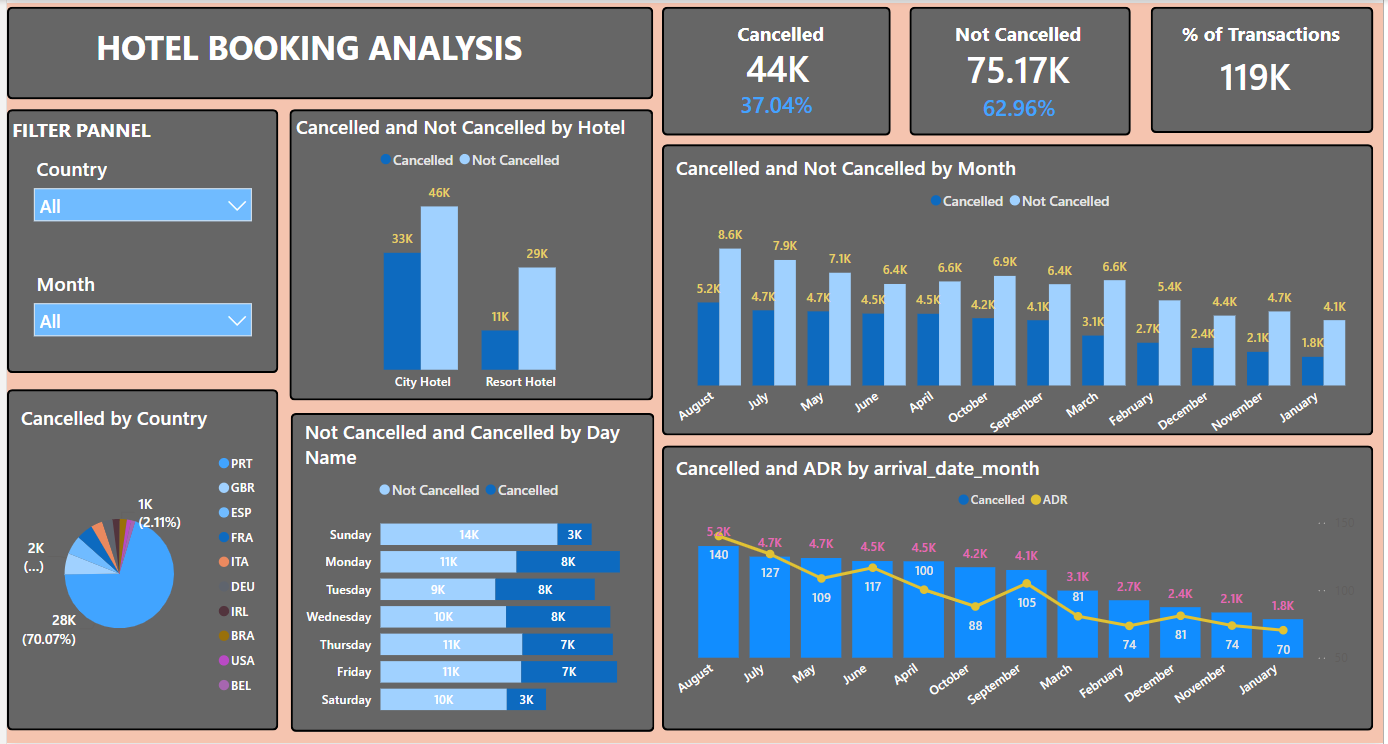

What the dashboard file says about the page in this screenshot:
{"tool":"powerbi","page":{"name":"Page 1","canvas":[1339,720],"ordinal":0},"visuals":[{"type":"shape","box":[0,3.6,628.9,90],"z":0},{"type":"textbox","box":[81.5,15.8,523,68.1],"z":1},{"type":"shape","box":[0,103.4,264,256.7],"z":2},{"type":"shape","box":[637.4,3.6,222.6,125.3],"z":3},{"type":"shape","box":[878.2,3.6,215.3,125.3],"z":4},{"type":"shape","box":[1113,3.6,216.5,122.9],"z":5},{"type":"shape","box":[274.9,103.4,354,283.4],"z":6},{"type":"shape","box":[637.4,137.5,692.1,283.4],"z":7},{"type":"shape","box":[637.4,430.6,692.1,277.3],"z":8},{"type":"shape","box":[276.1,399,354,310.2],"z":9},{"type":"shape","box":[0,375.9,264,332.1],"z":10},{"type":"card","fields":{"Values":["All Measures.Not Cancelled"]},"box":[888,32.8,192.2,63.3],"z":11},{"type":"card","fields":{"Values":["All Measures.Cancelled"]},"box":[647.1,12.2,205.6,103.4],"z":12},{"type":"card","fields":{"Values":["All Measures.% of Transaction"]},"box":[1113,21.9,203.1,99.7],"z":13},{"type":"textbox","box":[645.9,12.2,214.1,52.3],"z":14},{"type":"textbox","box":[888,12.2,192.2,52.3],"z":15},{"type":"textbox","box":[1123.9,12.2,192.2,52.3],"z":16},{"type":"card","fields":{"Values":["All Measures.% of Cancellation"]},"box":[642.3,64.5,214.1,73],"z":17},{"type":"card","fields":{"Values":["All Measures.% of Not Cancellation"]},"box":[878.2,71.8,214.1,63.3],"z":18},{"type":"textbox","box":[0,105.8,183.7,41.4],"z":19},{"type":"slicer","fields":{"Values":["hotel_booking_Dataset.country"]},"box":[15.8,143.5,232.3,91.2],"z":20},{"type":"slicer","fields":{"Values":["hotel_booking_Dataset.arrival_date_day_of_month"]},"box":[15.8,255.4,232.3,91.2],"z":21},{"type":"clusteredColumnChart","title":"Cancelled and Not Cancelled by Hotel","fields":{"Category":["hotel_booking_Dataset.hotel"],"Y":["All Measures.Cancelled","All Measures.Not Cancelled"]},"box":[276.1,107,352.8,279.8],"z":22},{"type":"clusteredColumnChart","title":"Cancelled and Not Cancelled by Month","fields":{"Y":["All Measures.Cancelled","All Measures.Not Cancelled"],"Category":["hotel_booking_Dataset.arrival_date_month"]},"box":[645.9,147.2,683.6,291.9],"z":23},{"type":"donutChart","title":"Cancelled by Country","fields":{"Category":["hotel_booking_Dataset.country"],"Y":["All Measures.Cancelled"]},"box":[8.5,390.5,246.9,305.3],"z":24},{"type":"barChart","fields":{"Category":["hotel_booking_Dataset.Day Name"],"Y":["All Measures.Not Cancelled","All Measures.Cancelled"]},"box":[284.6,403.8,333.3,300.4],"z":25},{"type":"lineStackedColumnComboChart","fields":{"Category":["hotel_booking_Dataset.arrival_date_month"],"Y":["All Measures.Cancelled"],"Y2":["All Measures.ADR"]},"box":[645.9,439.1,670.2,265.2],"z":26}]}

Visuals, with their boxes in screenshot pixels (x1, y1, x2, y2), scaled from the page's 1339x720 canvas onto the 1388x744 screenshot:
shape: [x1=0, y1=4, x2=652, y2=97]
textbox: [x1=84, y1=16, x2=627, y2=87]
shape: [x1=0, y1=107, x2=274, y2=372]
shape: [x1=661, y1=4, x2=891, y2=133]
shape: [x1=910, y1=4, x2=1134, y2=133]
shape: [x1=1154, y1=4, x2=1378, y2=131]
shape: [x1=285, y1=107, x2=652, y2=400]
shape: [x1=661, y1=142, x2=1378, y2=435]
shape: [x1=661, y1=445, x2=1378, y2=731]
shape: [x1=286, y1=412, x2=653, y2=733]
shape: [x1=0, y1=388, x2=274, y2=732]
card - All Measures.Not Cancelled: [x1=920, y1=34, x2=1120, y2=99]
card - All Measures.Cancelled: [x1=671, y1=13, x2=884, y2=119]
card - All Measures.% of Transaction: [x1=1154, y1=23, x2=1364, y2=126]
textbox: [x1=670, y1=13, x2=891, y2=67]
textbox: [x1=920, y1=13, x2=1120, y2=67]
textbox: [x1=1165, y1=13, x2=1364, y2=67]
card - All Measures.% of Cancellation: [x1=666, y1=67, x2=888, y2=142]
card - All Measures.% of Not Cancellation: [x1=910, y1=74, x2=1132, y2=140]
textbox: [x1=0, y1=109, x2=190, y2=152]
slicer - hotel_booking_Dataset.country: [x1=16, y1=148, x2=257, y2=243]
slicer - hotel_booking_Dataset.arrival_date_day_of_month: [x1=16, y1=264, x2=257, y2=358]
"Cancelled and Not Cancelled by Hotel" clusteredColumnChart: [x1=286, y1=111, x2=652, y2=400]
"Cancelled and Not Cancelled by Month" clusteredColumnChart: [x1=670, y1=152, x2=1378, y2=454]
"Cancelled by Country" donutChart: [x1=9, y1=404, x2=265, y2=719]
barChart - hotel_booking_Dataset.Day Name x All Measures.Not Cancelled: [x1=295, y1=417, x2=641, y2=728]
lineStackedColumnComboChart - hotel_booking_Dataset.arrival_date_month x All Measures.Cancelled: [x1=670, y1=454, x2=1364, y2=728]
